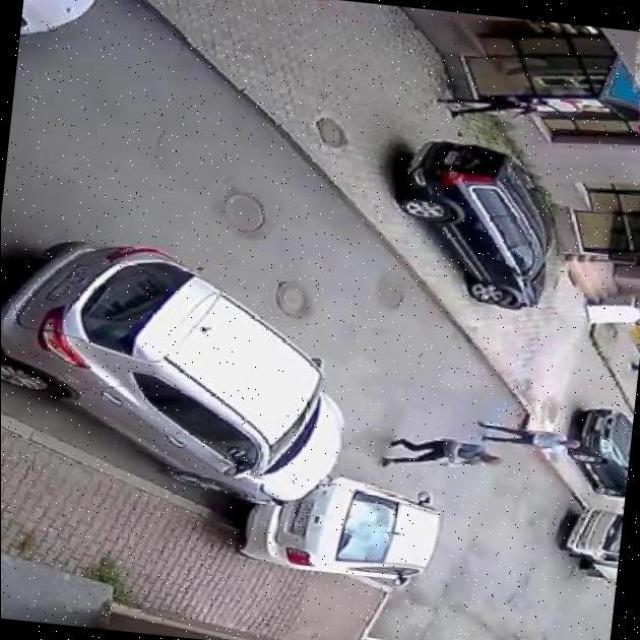accident: (141, 331, 470, 617)
